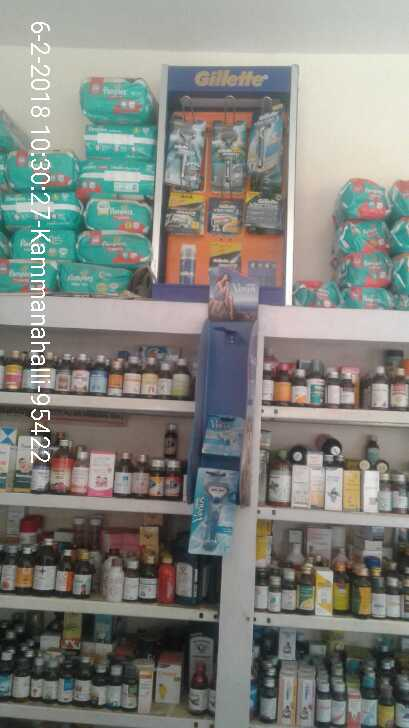beauty: (186, 468, 234, 559), (244, 108, 289, 170), (168, 111, 201, 190), (194, 410, 248, 456), (213, 122, 248, 184), (202, 191, 245, 236), (170, 196, 201, 237), (243, 195, 280, 226)
pharmacy: (83, 122, 153, 166), (5, 150, 77, 190), (75, 79, 155, 113), (1, 191, 80, 225), (52, 266, 135, 297), (331, 178, 392, 219), (81, 164, 154, 198), (80, 229, 150, 262), (82, 198, 151, 230), (340, 214, 391, 254), (337, 254, 397, 285)
